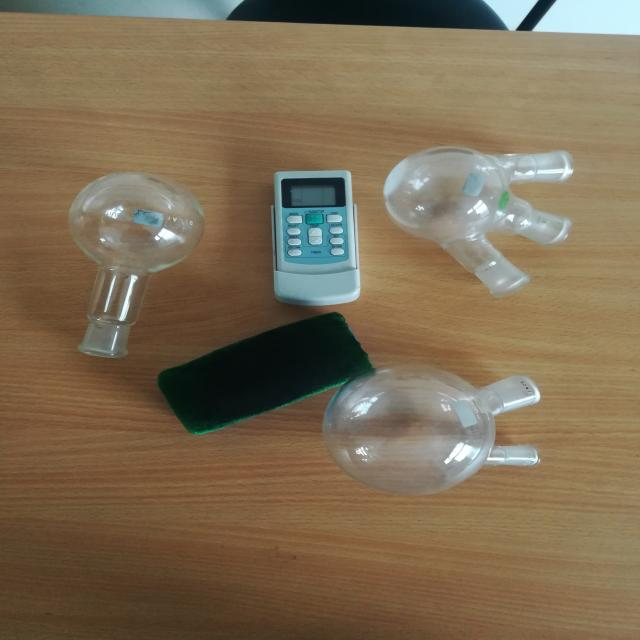Round_Bottom_Flask_Borosilicate_Glass_1_Neck: (20, 138, 203, 355)
Round_Bottom_Flask_Borosilicate_Glass_2_Neck: (295, 342, 607, 531)
Round_Bottom_Flask_Borosilicate_Glass_3_Neck: (375, 109, 607, 312)
